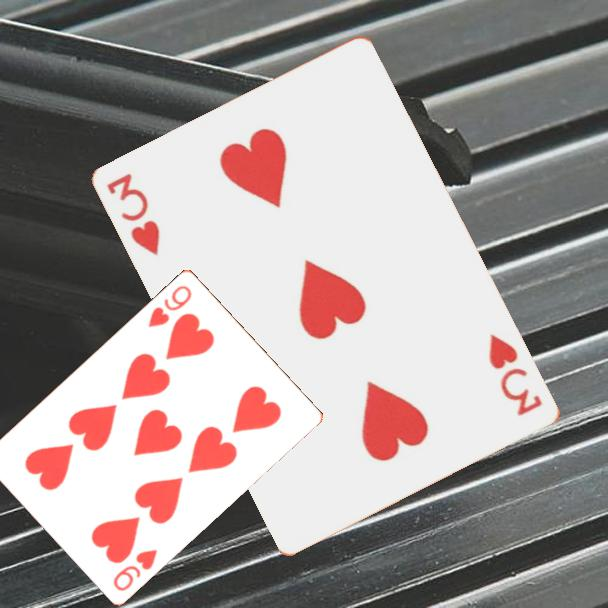h03: (103, 169, 164, 259), (485, 331, 546, 419)
h09: (144, 281, 195, 330), (110, 545, 161, 594)
